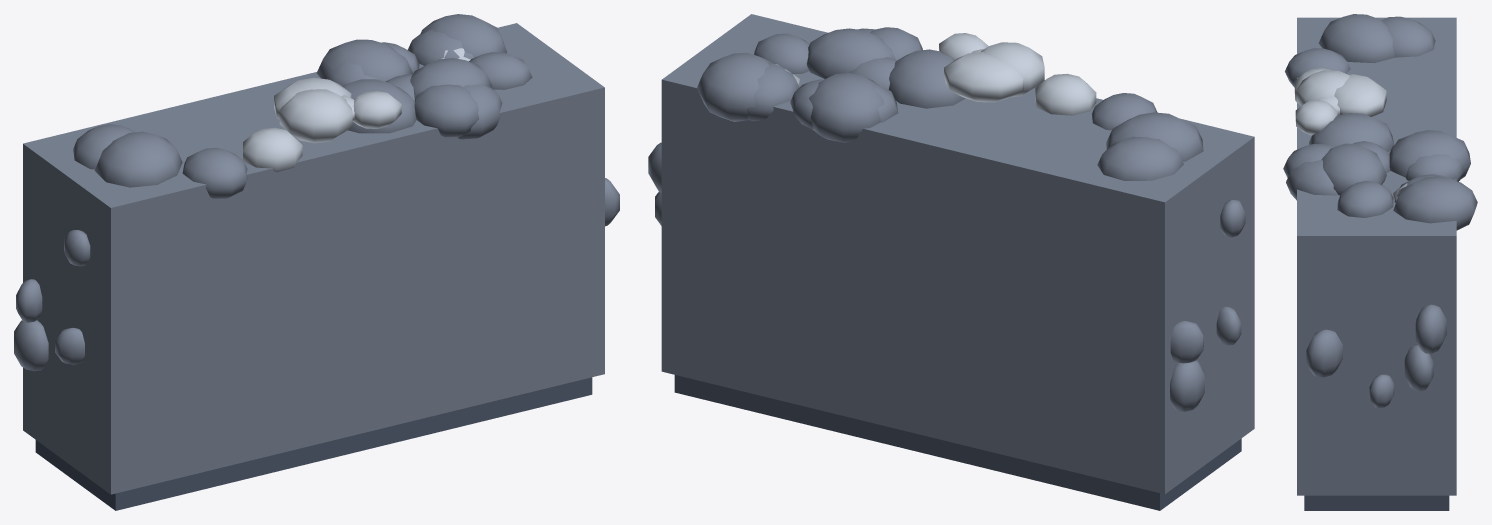
Rendered from 绿篱-lite.glb.
3 renders of one model, left to right at view 1: azimuth 30°, elevation 25°; view 2: azimuth 150°, elevation 25°; view 3: azimuth 270°, elevation 25°, orthographic. The views are drawn at different scales.
Parts seen in each view (by area): view 1: garden-hedge-leaf, garden-hedge-soil, garden-hedge-light; view 2: garden-hedge-leaf, garden-hedge-soil, garden-hedge-light; view 3: garden-hedge-leaf, garden-hedge-light, garden-hedge-soil.
Boxes of the visible parts, <box> form: garden-hedge-leaf: <box>14,14,619,494</box>; garden-hedge-soil: <box>35,377,592,510</box>; garden-hedge-light: <box>243,48,473,172</box>; garden-hedge-leaf: <box>648,14,1254,494</box>; garden-hedge-soil: <box>674,375,1241,510</box>; garden-hedge-light: <box>775,33,1096,115</box>; garden-hedge-leaf: <box>1283,14,1477,495</box>; garden-hedge-light: <box>1294,68,1407,201</box>; garden-hedge-soil: <box>1304,495,1449,510</box>.
Size of the model in its own units: 1.6 by 1 by 0.55.
